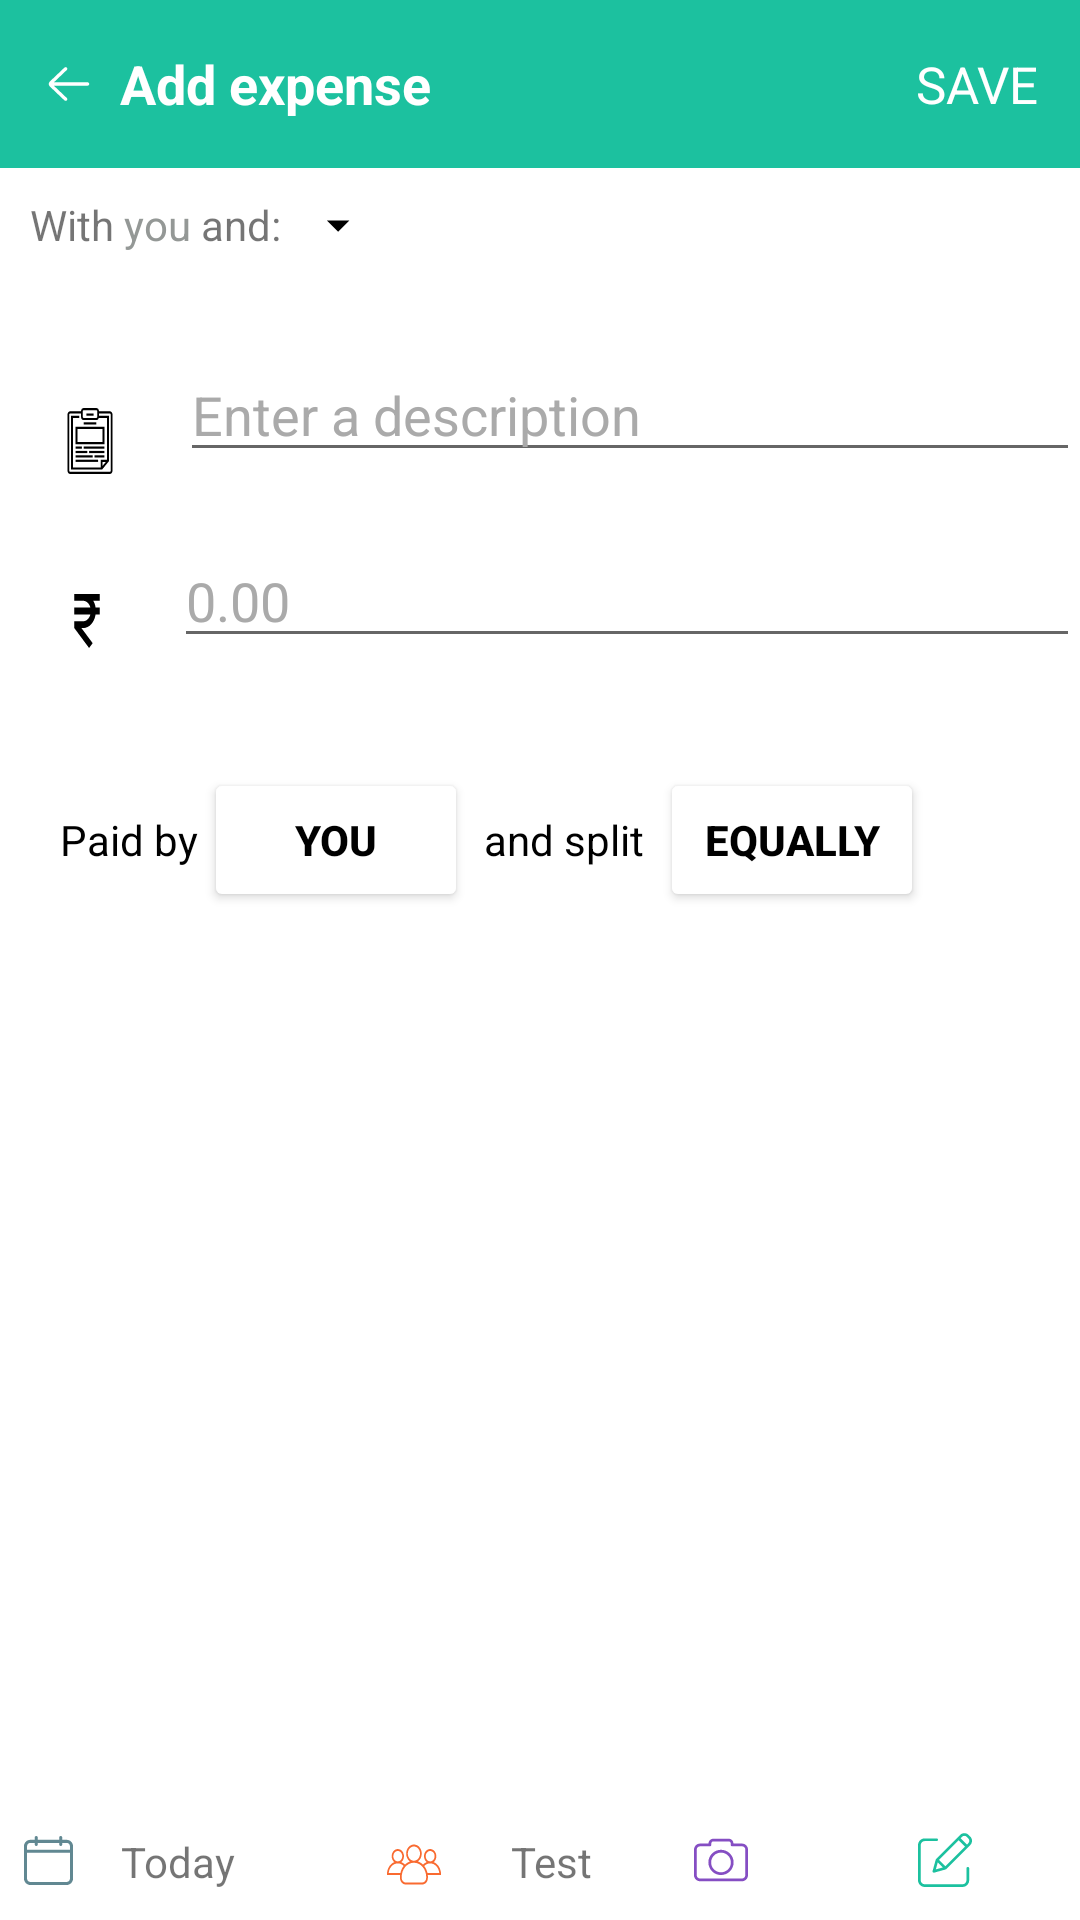

Point at icon controls on the screen. Image size 1080px×1920px, points as point (x, y).
calendar: point (48, 1860)
camera: point (721, 1860)
edit: point (945, 1860)
left arrow: point (69, 84)
rupee: point (87, 621)
